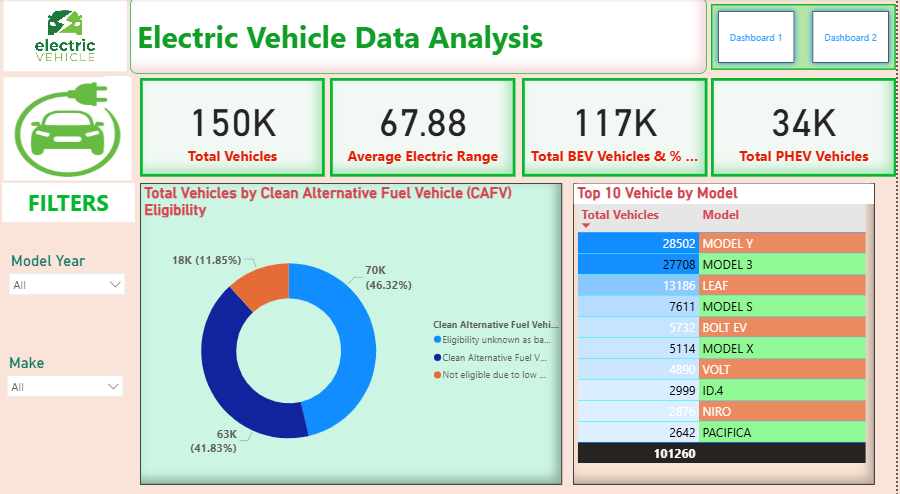

Layout of this report page (visuals, bound fields, positions):
{"tool":"powerbi","page":{"name":"Dashboard 3","canvas":[1280,720],"ordinal":2},"visuals":[{"type":"card","fields":{"Values":["Electric_Vehicle_Population_Dat.Total Vehicles"]},"box":[200,116.6,264,141.1],"z":0},{"type":"card","fields":{"Values":["Electric_Vehicle_Population_Dat.Average Electric Range"]},"box":[472.1,116.6,265,141.1],"z":1000},{"type":"card","fields":{"Values":["Electric_Vehicle_Population_Dat.Total BEV Vehicles & % BEV"]},"box":[745.9,116.6,265,141.1],"z":2000},{"type":"card","fields":{"Values":["Electric_Vehicle_Population_Dat.Total PHEV Vehicles"]},"box":[1015.2,116.6,265,141.1],"z":3000},{"type":"image","box":[0,1.4,185.8,110.9],"z":4000},{"type":"textbox","box":[185.7,1.4,824.3,110],"z":5000},{"type":"pageNavigator","box":[1015.7,11.4,264.3,94.3],"z":6000},{"type":"slicer","fields":{"Values":["Electric_Vehicle_Population_Dat.Model Year"]},"box":[2.9,360,185.8,110.9],"z":7000},{"type":"slicer","fields":{"Values":["Electric_Vehicle_Population_Dat.Make"]},"box":[0,505.4,185.8,115.2],"z":8000},{"type":"image","box":[0,110.9,193,157],"z":9000},{"type":"textbox","box":[2.9,267.8,190.1,56.2],"z":10000},{"type":"donutChart","fields":{"Category":["Electric_Vehicle_Population_Dat.Clean Alternative Fuel Vehicle (CAFV) Eligibility"],"Y":["Electric_Vehicle_Population_Dat.Total Vehicles"]},"box":[200,267.1,602.9,431.4],"z":11000},{"type":"tableEx","title":"Top 10 Vehicle by Model","fields":{"Values":["Electric_Vehicle_Population_Dat.Total Vehicles","Electric_Vehicle_Population_Dat.Model"]},"box":[818.6,267.1,431.4,431.4],"z":11001}]}

Visuals, with their boxes in screenshot pixels (x1, y1, x2, y2), scaled from the page's 1280x720 canvas onto the 900x494 screenshot:
card - Electric_Vehicle_Population_Dat.Total Vehicles: (141,80,326,177)
card - Electric_Vehicle_Population_Dat.Average Electric Range: (332,80,518,177)
card - Electric_Vehicle_Population_Dat.Total BEV Vehicles & % BEV: (524,80,711,177)
card - Electric_Vehicle_Population_Dat.Total PHEV Vehicles: (714,80,899,177)
image: (0,1,131,77)
textbox: (131,1,710,76)
pageNavigator: (714,8,899,73)
slicer - Electric_Vehicle_Population_Dat.Model Year: (2,247,133,323)
slicer - Electric_Vehicle_Population_Dat.Make: (0,347,131,426)
image: (0,76,136,184)
textbox: (2,184,136,222)
donutChart - Electric_Vehicle_Population_Dat.Clean Alternative Fuel Vehicle (CAFV) Eligibility x Electric_Vehicle_Population_Dat.Total Vehicles: (141,183,565,479)
"Top 10 Vehicle by Model" tableEx: (576,183,879,479)
